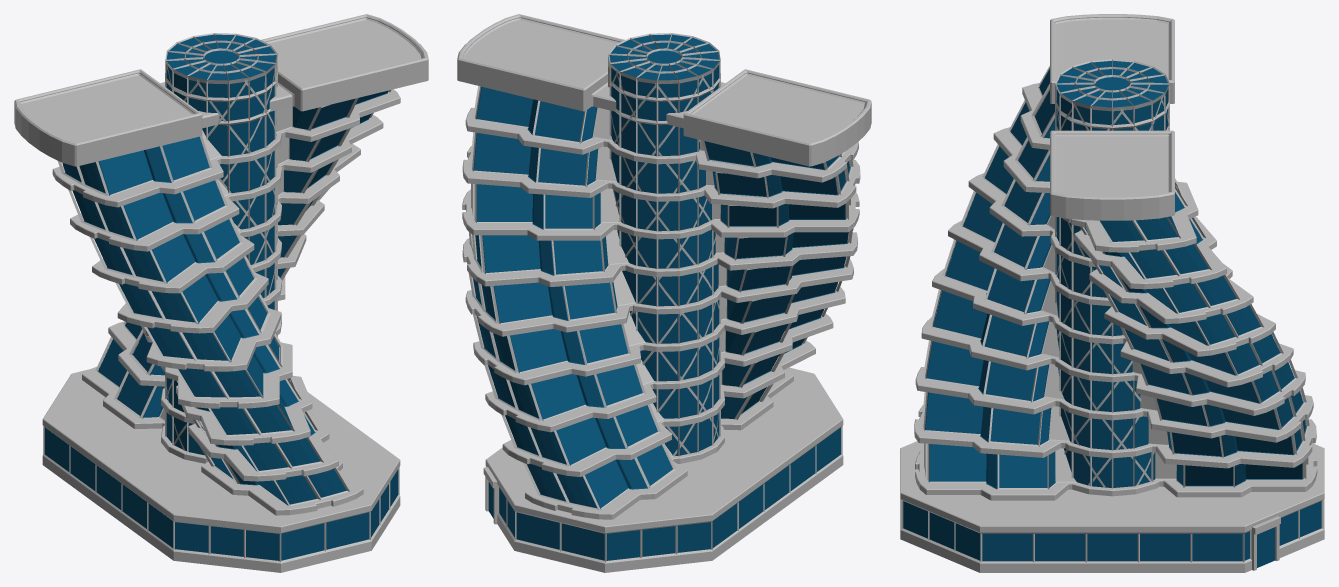
File: Helix Building 1.obj
3 renders of one model, left to right at view 1: azimuth 30°, elevation 25°; view 2: azimuth 150°, elevation 25°; view 3: azimuth 270°, elevation 25°, orthographic.
Parts seen in each view (by area): view 1: main_structure.001_Plane.012, base_Cube, platform.001_Plane.007, main_structure_Plane.006, core.001_Cylinder.006, wire_structure.001_Plane.013, wire_core.001_Cylinder.008, balcony.001_Cylinder.007, base_wires_Cube.001, wire_helix.001_Plane.009, wire_structure.002_Plane.008; view 2: main_structure_Plane.006, main_structure.001_Plane.012, base_Cube, core.001_Cylinder.006, platform.001_Plane.007, balcony.001_Cylinder.007, wire_core.001_Cylinder.008, wire_structure.002_Plane.008, wire_helix.001_Plane.009, wire_structure.001_Plane.013, base_wires_Cube.001, Cube_Cube.002; view 3: main_structure.001_Plane.012, main_structure_Plane.006, base_Cube, platform.001_Plane.007, core.001_Cylinder.006, wire_core.001_Cylinder.008, balcony.001_Cylinder.007, wire_structure.002_Plane.008, wire_structure.001_Plane.013, base_wires_Cube.001, wire_helix.001_Plane.009, Cube_Cube.002.
Boxes of the visible parts, x1=… form: main_structure.001_Plane.012: x1=52, y1=130, x2=363, y2=515; base_Cube: x1=42, y1=369, x2=400, y2=572; platform.001_Plane.007: x1=14, y1=14, x2=428, y2=166; main_structure_Plane.006: x1=82, y1=89, x2=400, y2=428; core.001_Cylinder.006: x1=166, y1=34, x2=276, y2=455; wire_structure.001_Plane.013: x1=58, y1=136, x2=349, y2=506; wire_core.001_Cylinder.008: x1=165, y1=33, x2=277, y2=452; balcony.001_Cylinder.007: x1=161, y1=131, x2=281, y2=463; base_wires_Cube.001: x1=43, y1=426, x2=399, y2=562; wire_helix.001_Plane.009: x1=166, y1=63, x2=276, y2=450; wire_structure.002_Plane.008: x1=95, y1=90, x2=391, y2=418; main_structure_Plane.006: x1=462, y1=87, x2=687, y2=519; main_structure.001_Plane.012: x1=696, y1=140, x2=860, y2=430; base_Cube: x1=485, y1=367, x2=843, y2=572; core.001_Cylinder.006: x1=609, y1=34, x2=719, y2=455; platform.001_Plane.007: x1=457, y1=14, x2=871, y2=166; balcony.001_Cylinder.007: x1=607, y1=140, x2=724, y2=463; wire_core.001_Cylinder.008: x1=608, y1=33, x2=720, y2=456; wire_structure.002_Plane.008: x1=467, y1=86, x2=676, y2=510; wire_helix.001_Plane.009: x1=611, y1=70, x2=719, y2=456; wire_structure.001_Plane.013: x1=702, y1=140, x2=853, y2=419; base_wires_Cube.001: x1=498, y1=426, x2=842, y2=562; Cube_Cube.002: x1=483, y1=467, x2=498, y2=524; main_structure.001_Plane.012: x1=914, y1=68, x2=1080, y2=500; main_structure_Plane.006: x1=1069, y1=181, x2=1317, y2=497; base_Cube: x1=900, y1=441, x2=1324, y2=572; platform.001_Plane.007: x1=1050, y1=14, x2=1174, y2=220; core.001_Cylinder.006: x1=1056, y1=61, x2=1168, y2=487; wire_core.001_Cylinder.008: x1=1055, y1=59, x2=1169, y2=488; balcony.001_Cylinder.007: x1=1050, y1=217, x2=1159, y2=496; wire_structure.002_Plane.008: x1=1080, y1=178, x2=1309, y2=487; wire_structure.001_Plane.013: x1=921, y1=66, x2=1054, y2=489; base_wires_Cube.001: x1=901, y1=500, x2=1323, y2=562; wire_helix.001_Plane.009: x1=1056, y1=95, x2=1168, y2=487; Cube_Cube.002: x1=1251, y1=516, x2=1280, y2=570.
Size of the model in its own units: 6.78 by 7.43 by 6.58.
